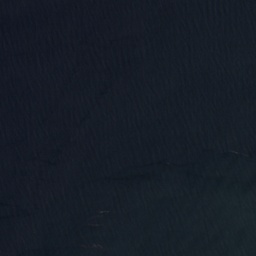Marine Debris: (85, 208, 111, 230), (221, 148, 256, 162)
